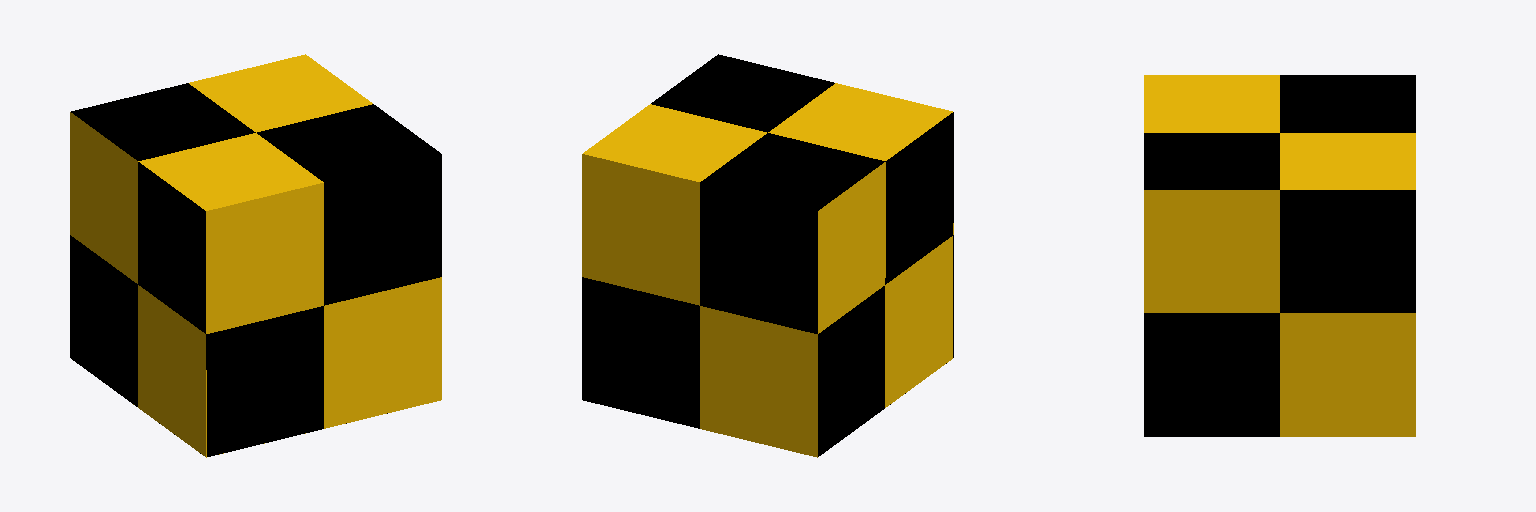
The picture shows the model from 3 angles: view 1: azimuth 30°, elevation 25°; view 2: azimuth 150°, elevation 25°; view 3: azimuth 270°, elevation 25°; orthographic projection.
Visible parts, largest first — view 1: Cube; view 2: Cube; view 3: Cube.
Part boxes in pixels (x1,y1,x2,y2): Cube: (70,54,441,457); Cube: (582,54,953,457); Cube: (1144,75,1415,436).
Bounding box in the file's own units: 1 × 1 × 1.
Materials: 1 (1 with a texture image).